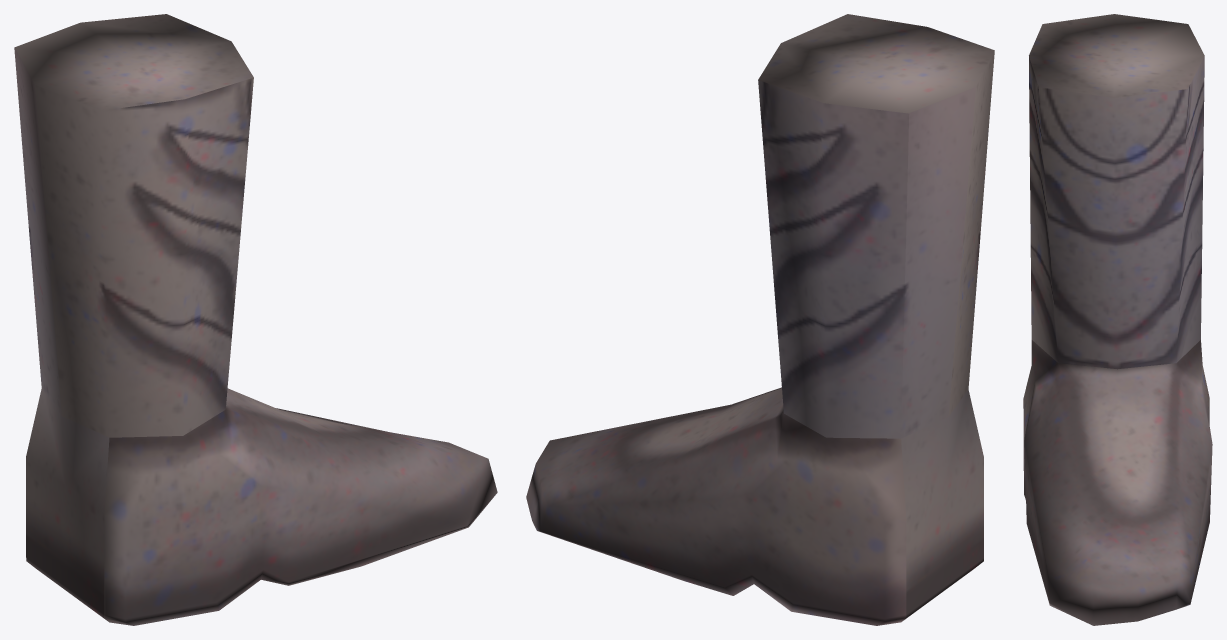
File: Botas.fbx
The picture shows the model from 3 angles, left to right: view 1: azimuth 30°, elevation 25°; view 2: azimuth 150°, elevation 25°; view 3: azimuth 270°, elevation 25°; orthographic projection. The views are drawn at different scales.
Visible parts, largest first — view 1: polySurface2; view 2: polySurface2; view 3: polySurface2.
Boxes of the visible parts, x1,y1,x2,y2 form: polySurface2: [14, 14, 497, 625]; polySurface2: [526, 14, 994, 625]; polySurface2: [1023, 14, 1212, 625].
Size of the model in its own units: 1.71 by 1.88 by 0.7385.
